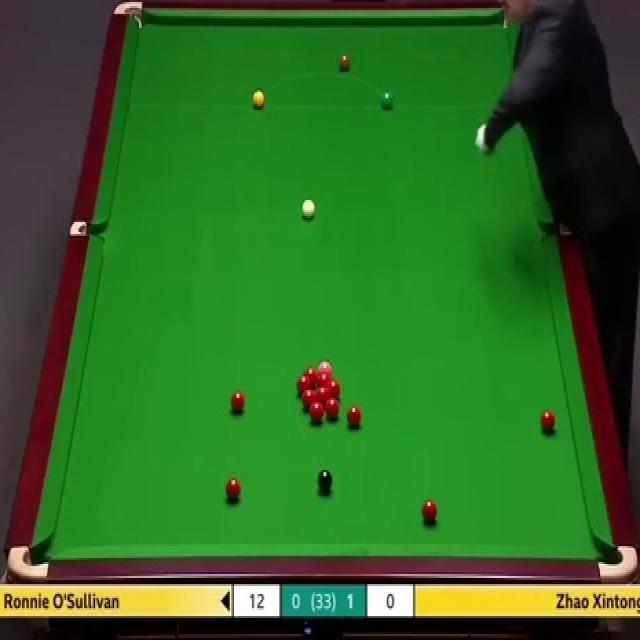pocket: (597, 542, 637, 583), (6, 542, 51, 578), (111, 0, 145, 34), (68, 222, 104, 236)
